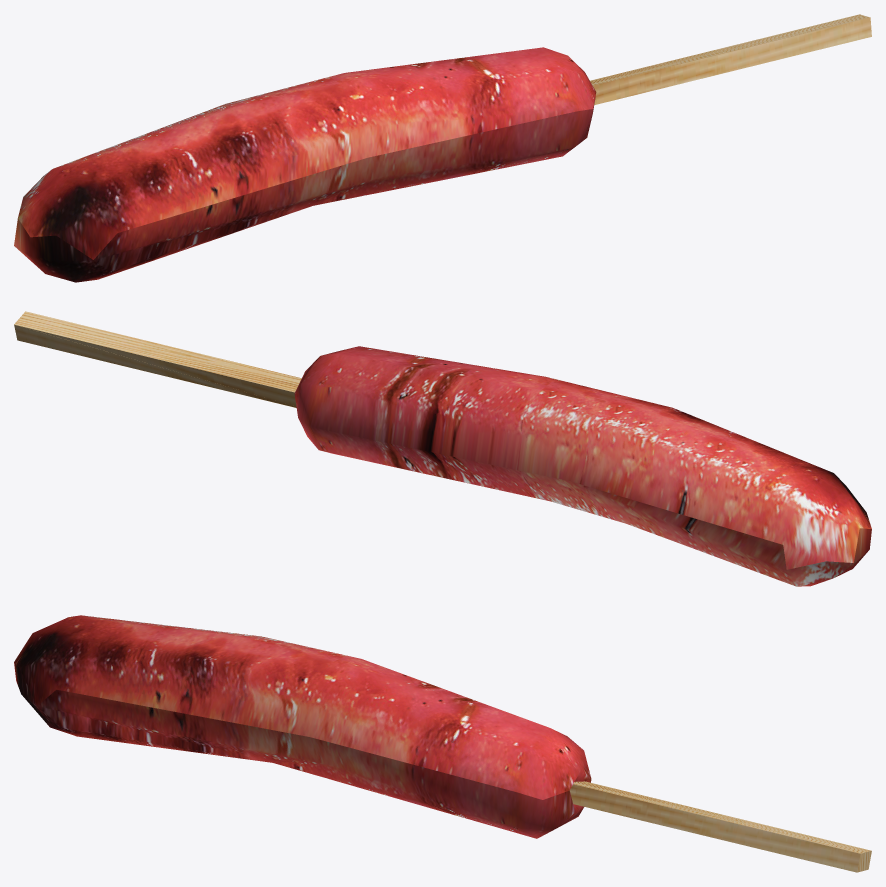
File: xucxich.fbx
3 views of the same model, one above another, from view 1: azimuth 30°, elevation 25°; view 2: azimuth 150°, elevation 25°; view 3: azimuth 330°, elevation 25° (orthographic).
Parts seen in each view (by area): view 1: grill; view 2: grill; view 3: grill.
Boxes of the visible parts, left/top/right/bottom form: grill: left=14, top=14, right=871, bottom=282; grill: left=14, top=311, right=871, bottom=586; grill: left=14, top=615, right=871, bottom=872.
Bounding box in the file's own units: 30.5 × 4.59 × 3.86.
